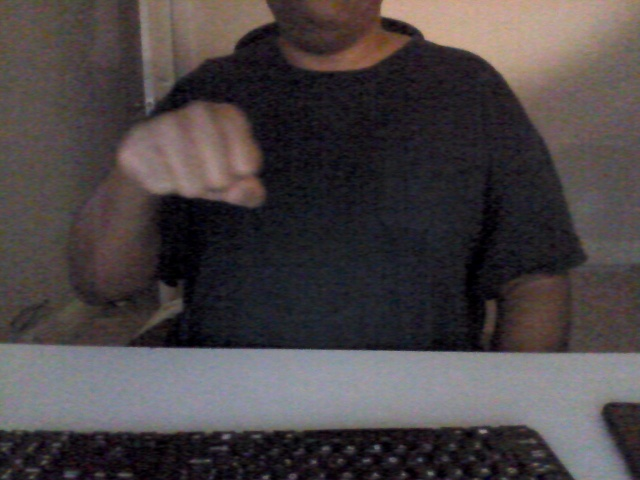yes: (114, 95, 271, 213)
